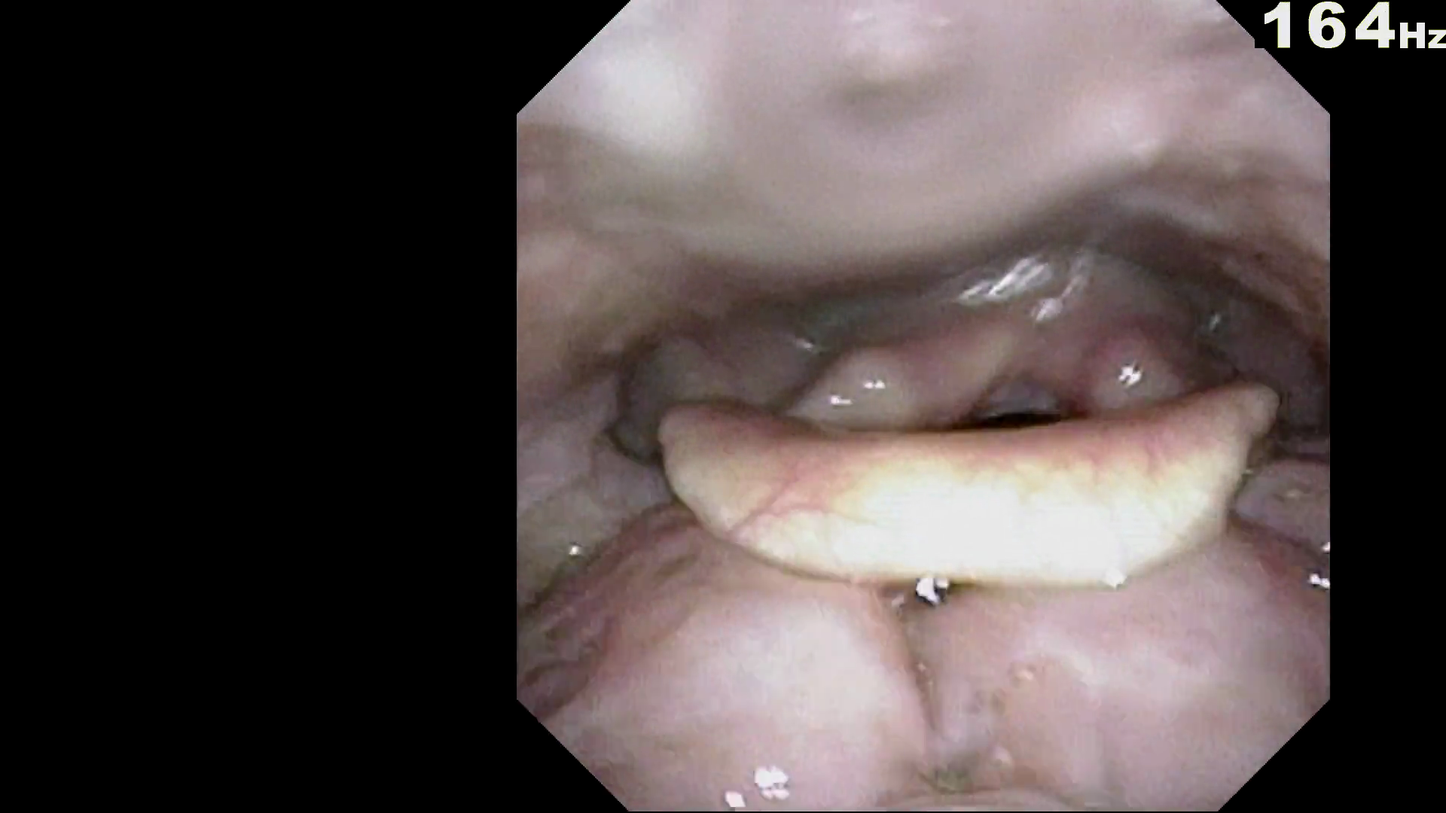epiglottis: (662, 438, 1278, 582)
